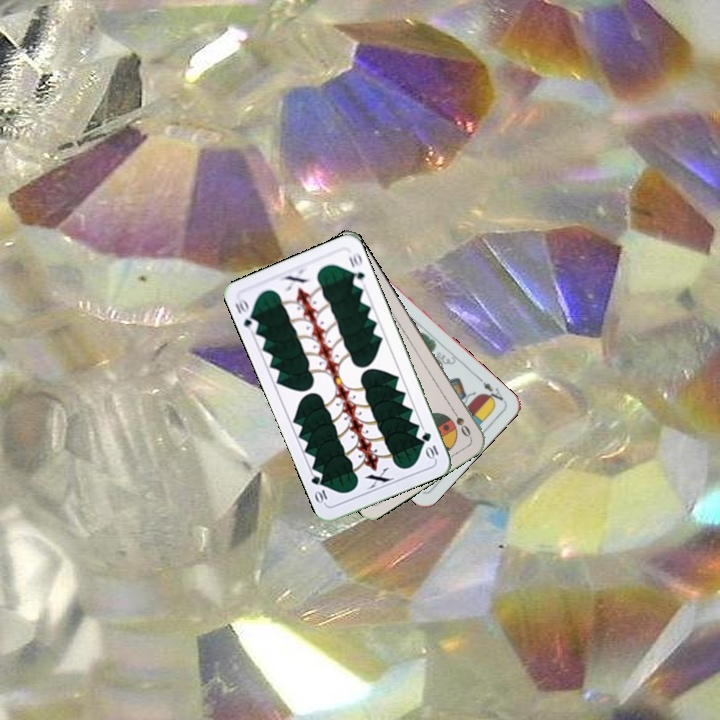EA: (474, 373, 506, 407)
G10: (231, 296, 261, 335), (418, 428, 441, 462)
SO: (447, 404, 474, 440)
